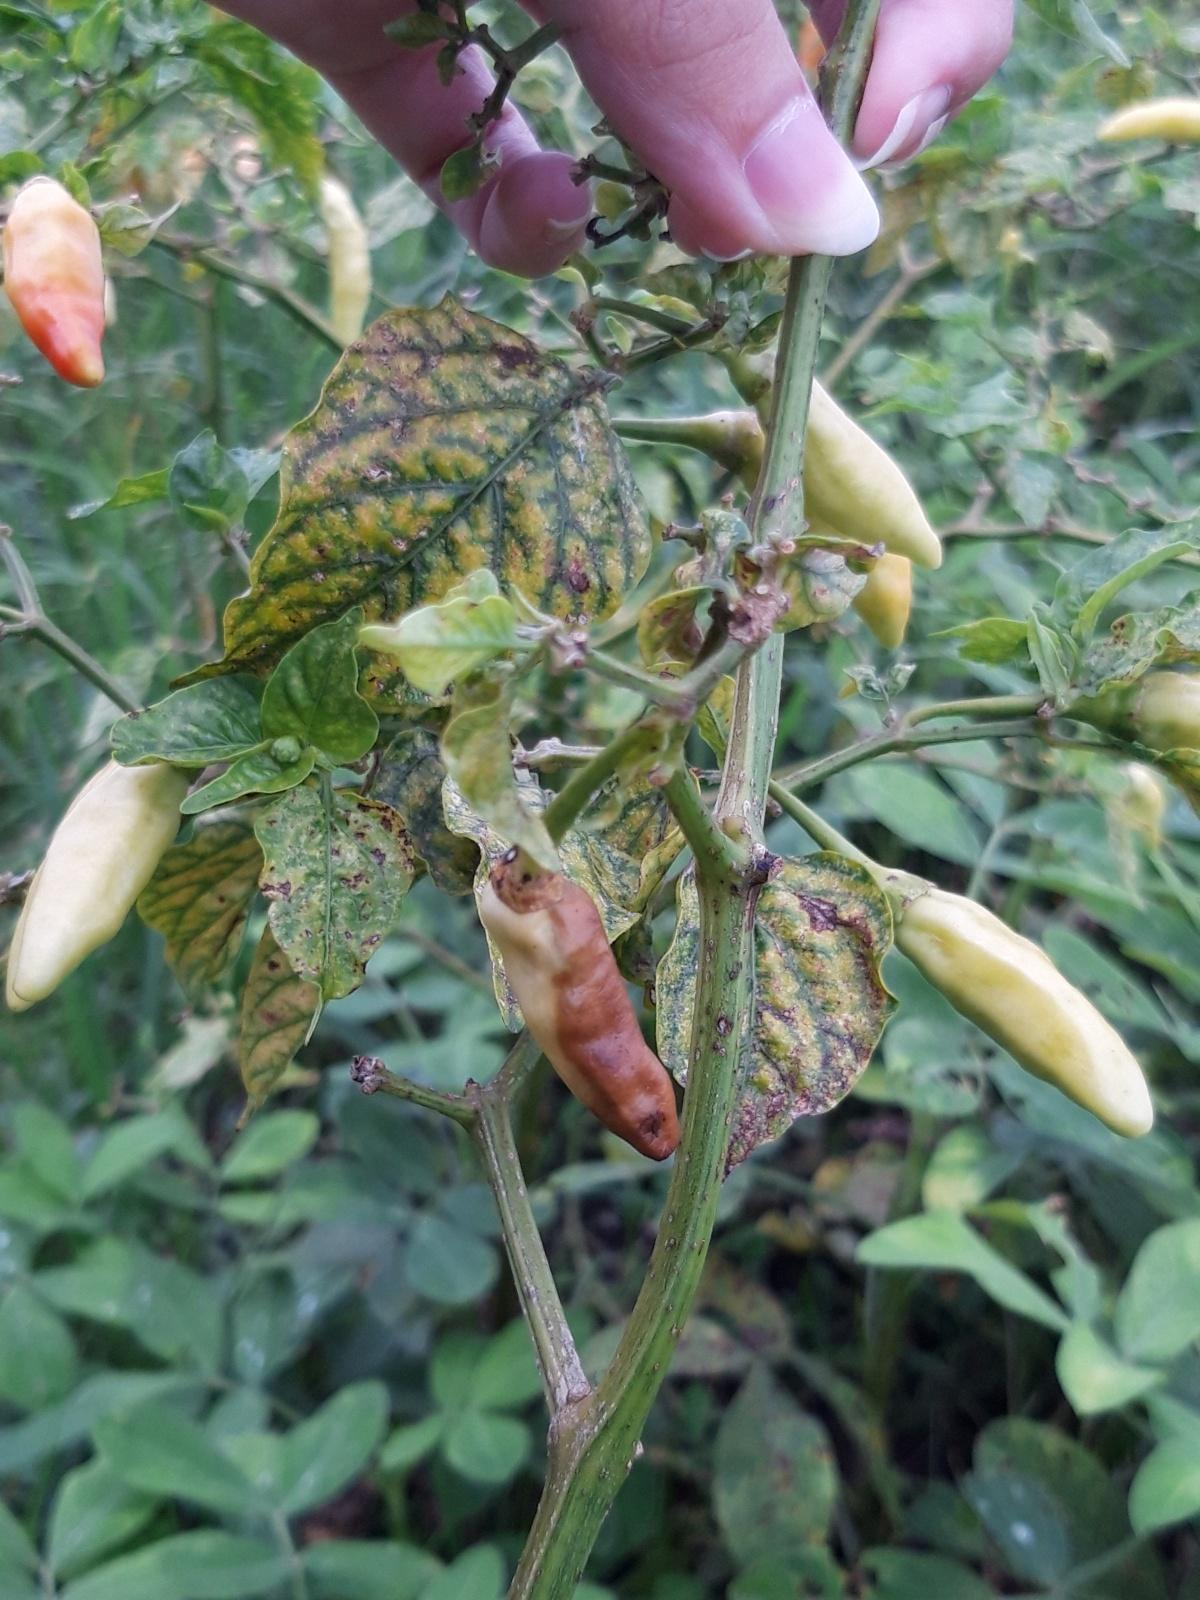cabai_normal: (880, 872, 1155, 1141), (730, 351, 947, 573), (13, 750, 195, 1002), (1, 176, 110, 391), (309, 176, 371, 344)
lalat_buah: (483, 842, 684, 1160)
